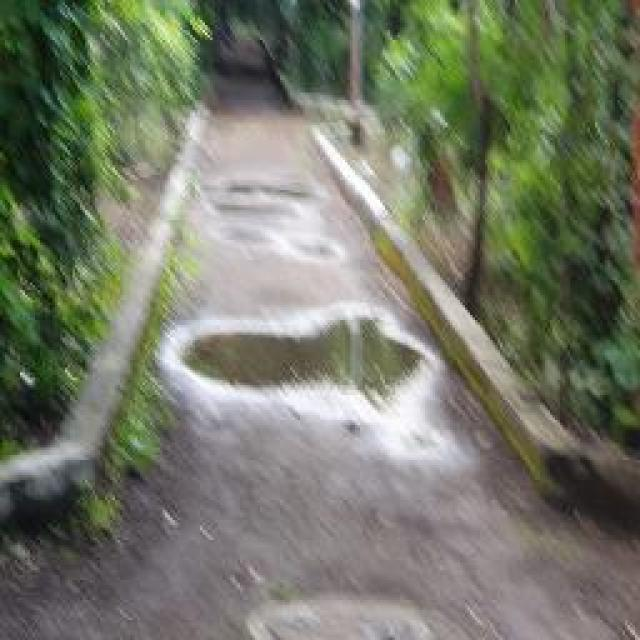stagnation: (164, 302, 431, 412), (199, 172, 339, 266)
